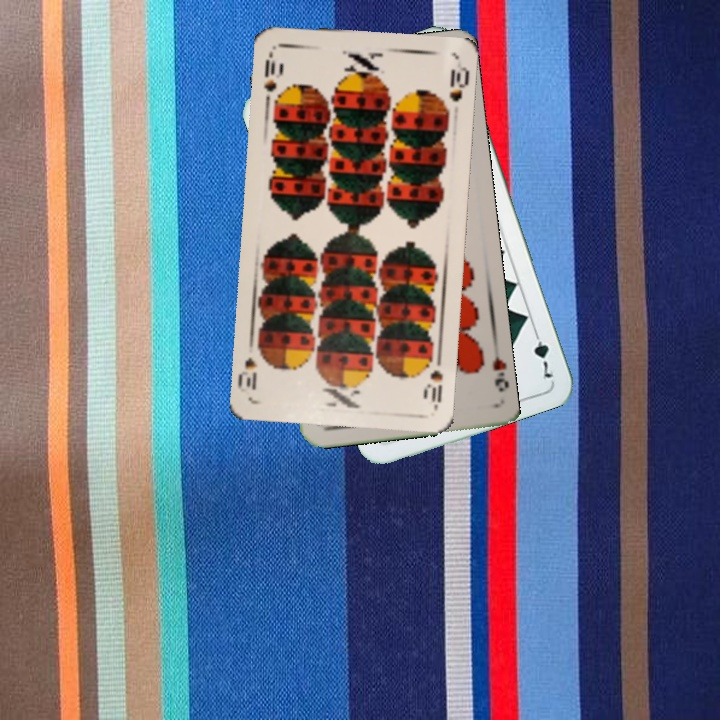G7: (529, 324, 555, 382)
H9: (488, 353, 509, 394)
S10: (421, 349, 446, 409), (260, 47, 285, 95)
